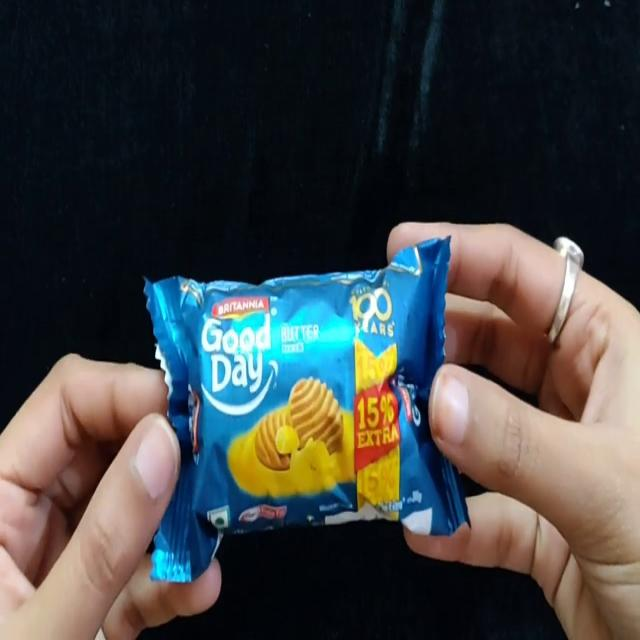good_day: (127, 249, 534, 594)
